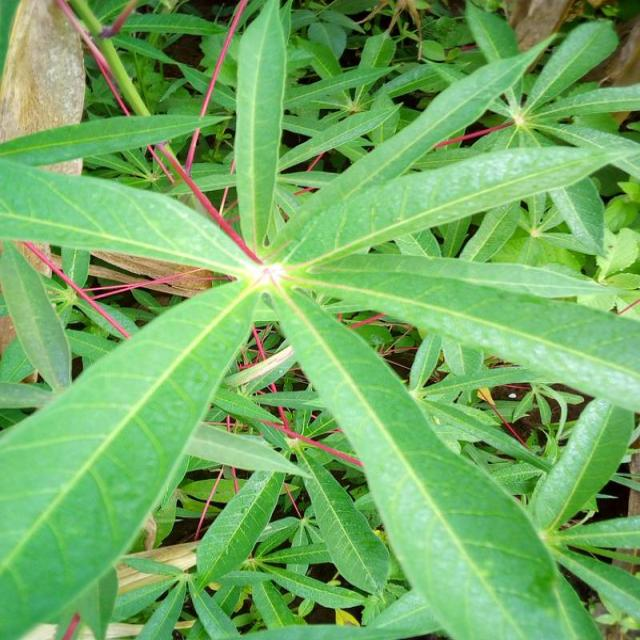cassava leaf: (1, 0, 638, 638), (267, 280, 603, 638), (0, 275, 260, 638)
